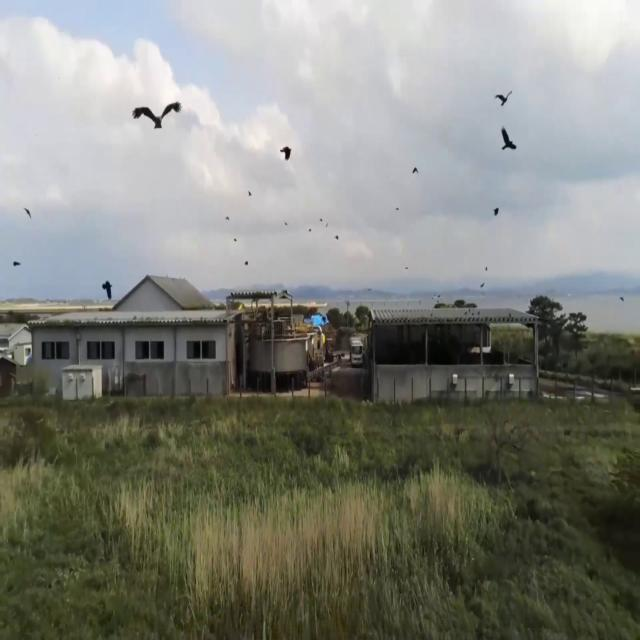bird: (130, 75, 184, 154), (499, 114, 518, 164), (493, 78, 513, 119), (279, 136, 292, 172), (101, 270, 113, 306), (23, 200, 32, 226), (12, 251, 21, 276)
